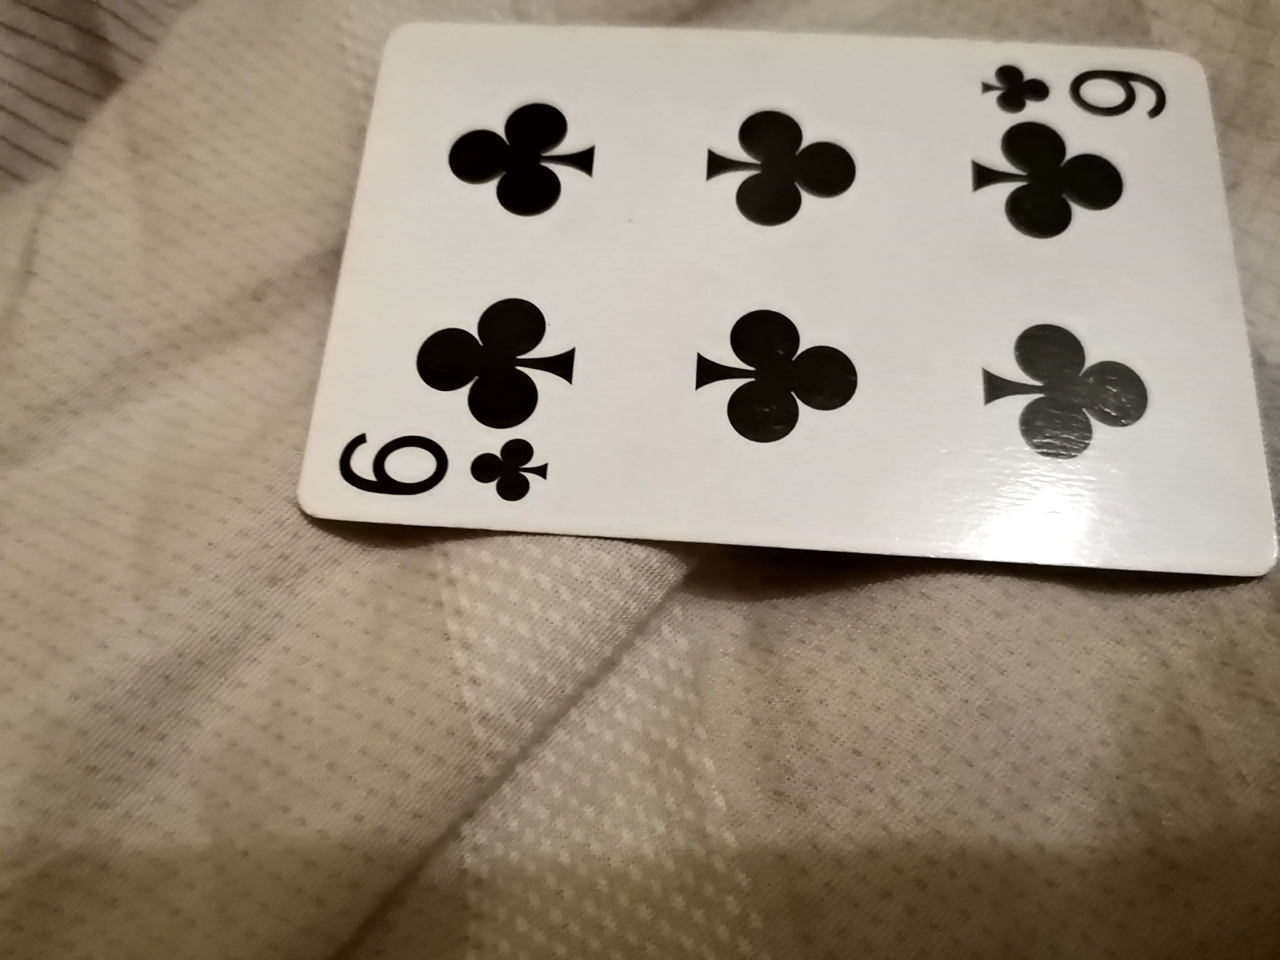mh 6: (309, 7, 1274, 564)
